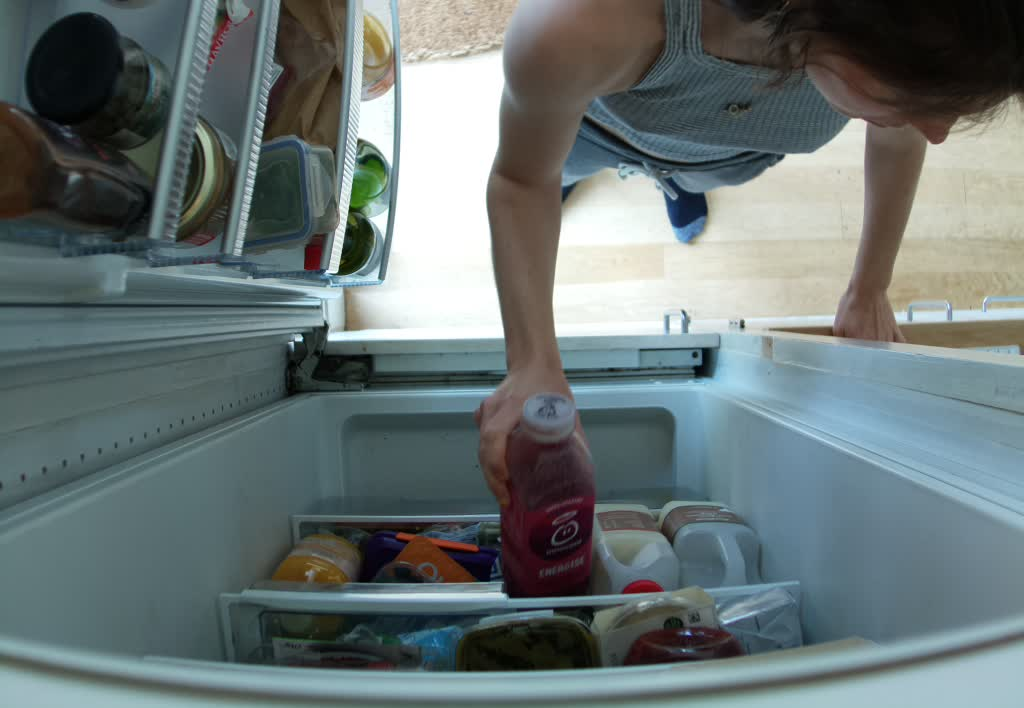juice: (501, 394, 598, 594)
